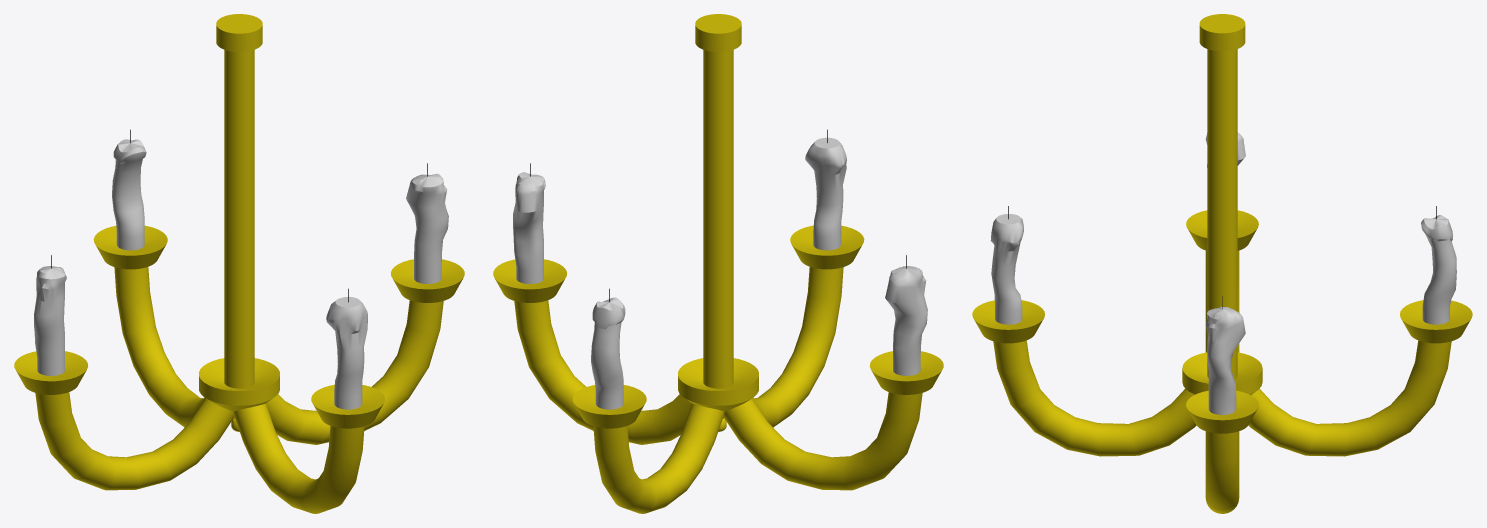
Rendered from lustre.fbx.
The picture shows the model from 3 angles, left to right: view 1: azimuth 30°, elevation 25°; view 2: azimuth 150°, elevation 25°; view 3: azimuth 270°, elevation 25°; orthographic projection.
Visible parts, largest first — view 1: Cylinder; view 2: Cylinder; view 3: Cylinder.
Part boxes in pixels (x1,y1,x2,y2): Cylinder: (14, 14, 464, 513); Cylinder: (493, 14, 943, 513); Cylinder: (972, 14, 1472, 513).
Bounding box in the file's own units: 537 × 510 × 537.
